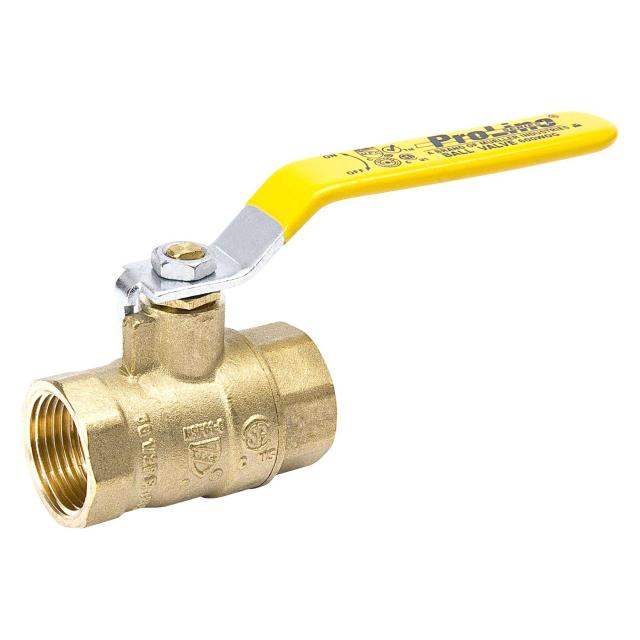opened_valve: (21, 110, 621, 529)
